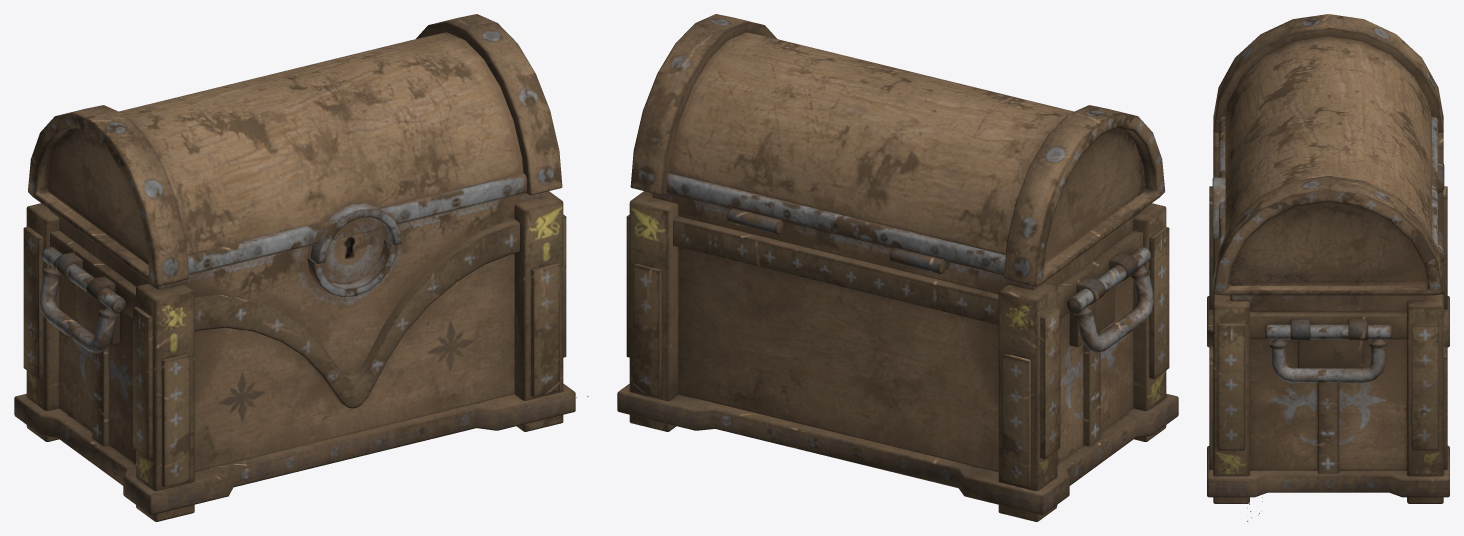
The model's file is chest.glb.
3 views of the same model, side by side, from view 1: azimuth 30°, elevation 25°; view 2: azimuth 150°, elevation 25°; view 3: azimuth 270°, elevation 25° (orthographic). The views are drawn at different scales.
Visible parts, largest first — view 1: Body, Lid; view 2: Body, Lid; view 3: Lid, Body.
Boxes of the visible parts, box(x1,y1,x2,y2) form: Body: box(14, 191, 575, 521); Lid: box(28, 14, 562, 286); Body: box(617, 191, 1178, 521); Lid: box(630, 14, 1165, 286); Lid: box(1212, 14, 1444, 295); Body: box(1207, 132, 1449, 503).
Size of the model in its own units: 1.11 by 0.788 by 0.5518.
2 materials, 1 textured.
